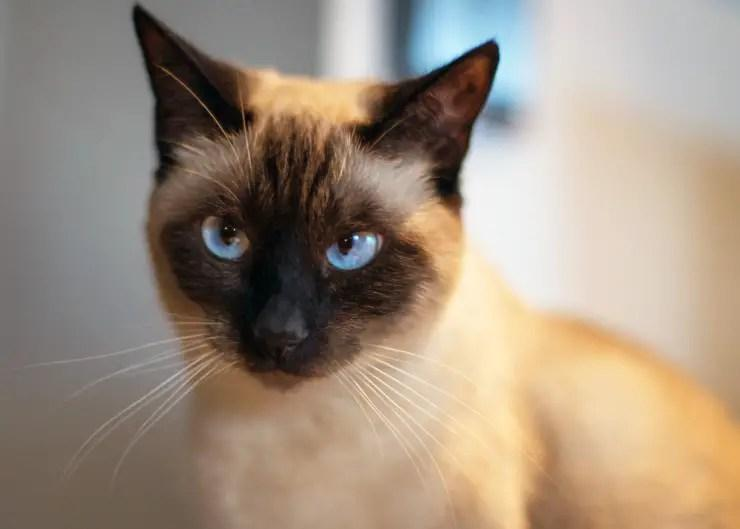siamese: (119, 1, 505, 399)
